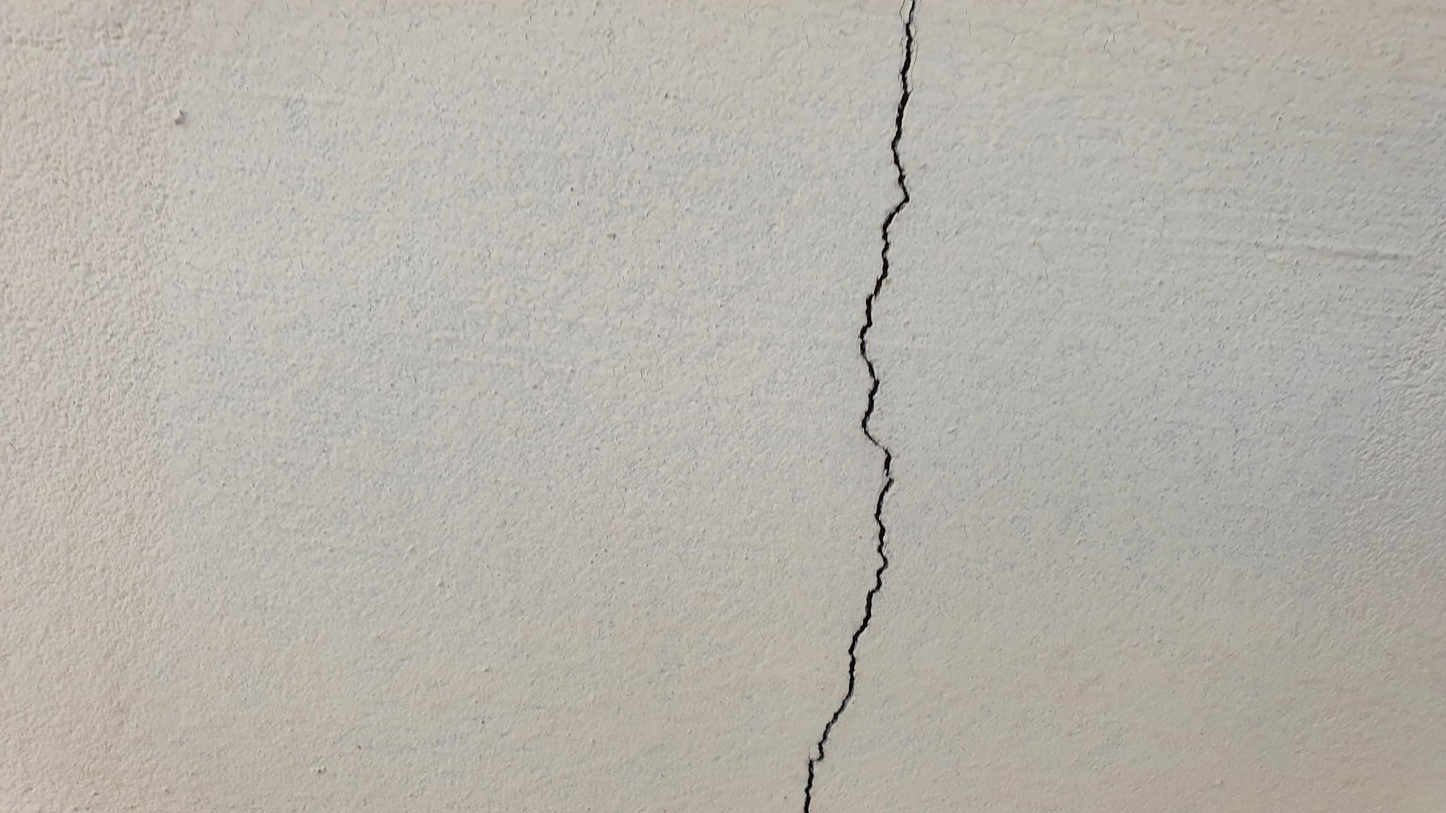crack: (802, 1, 918, 812)
